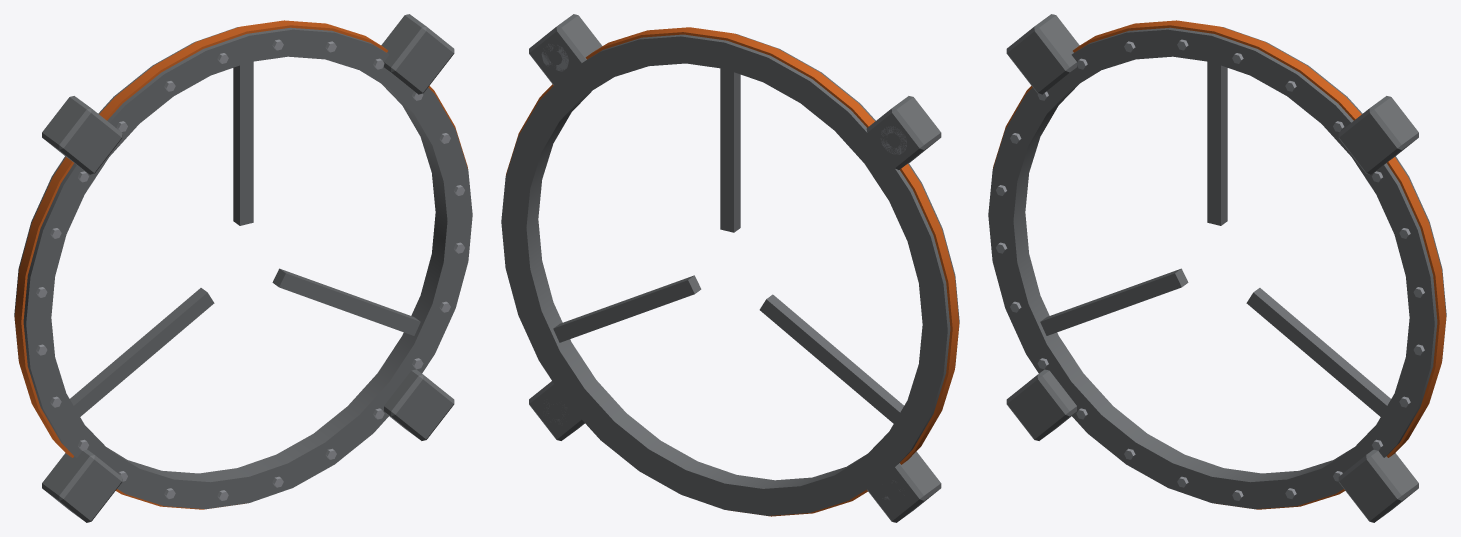
Rendered from u73l_flange.obj.
3 renders of one model, left to right at view 1: azimuth 30°, elevation 25°; view 2: azimuth 150°, elevation 25°; view 3: azimuth 330°, elevation 25°, orthographic.
Parts seen in each view (by area): view 1: u73l_flange; view 2: u73l_flange; view 3: u73l_flange.
Boxes of the visible parts, <box> form: u73l_flange: <box>14,14,472,522</box>; u73l_flange: <box>501,14,959,522</box>; u73l_flange: <box>988,14,1446,522</box>.
Bounding box in the file's own units: 3.94 × 3.94 × 0.32.
